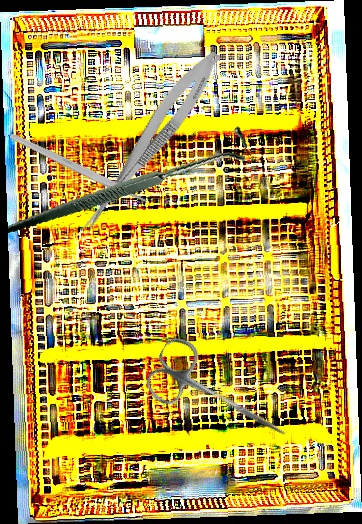Hook Surgical: (7, 93, 250, 268)
Iris Scissors: (139, 332, 303, 462)
Micro Scissor: (71, 43, 228, 248)
Scalpel Handle: (8, 131, 149, 206)
